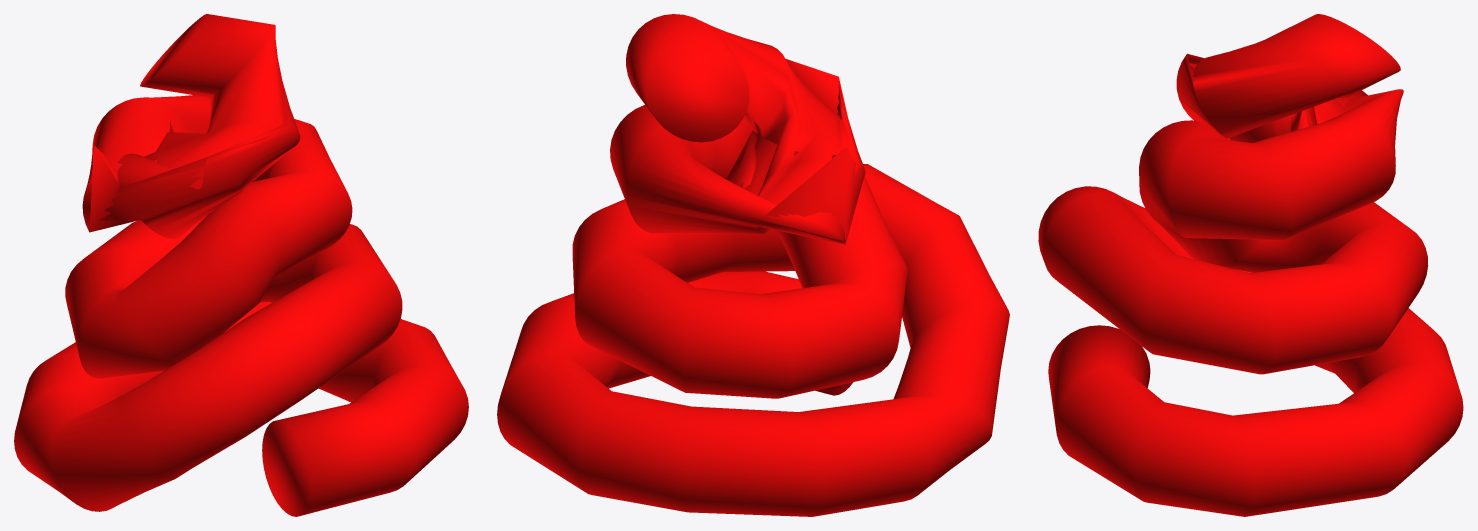
Rendered from coil of rope.fbx.
3 renders of one model, left to right at view 1: azimuth 30°, elevation 25°; view 2: azimuth 150°, elevation 25°; view 3: azimuth 270°, elevation 25°, orthographic. The views are drawn at different scales.
Visible parts, largest first — view 1: Cylinder; view 2: Cylinder; view 3: Cylinder.
Part boxes in pixels (x1,y1,x2,y2): Cylinder: (14, 14, 468, 516); Cylinder: (497, 14, 1009, 516); Cylinder: (1038, 14, 1463, 516).
Size of the model in its own units: 244 by 227 by 210.
